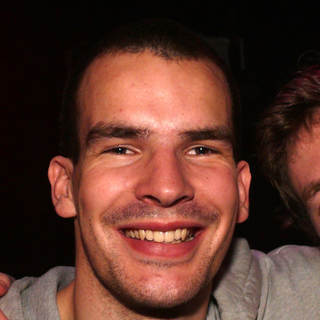eye: (95, 138, 147, 168), (176, 138, 226, 165)
